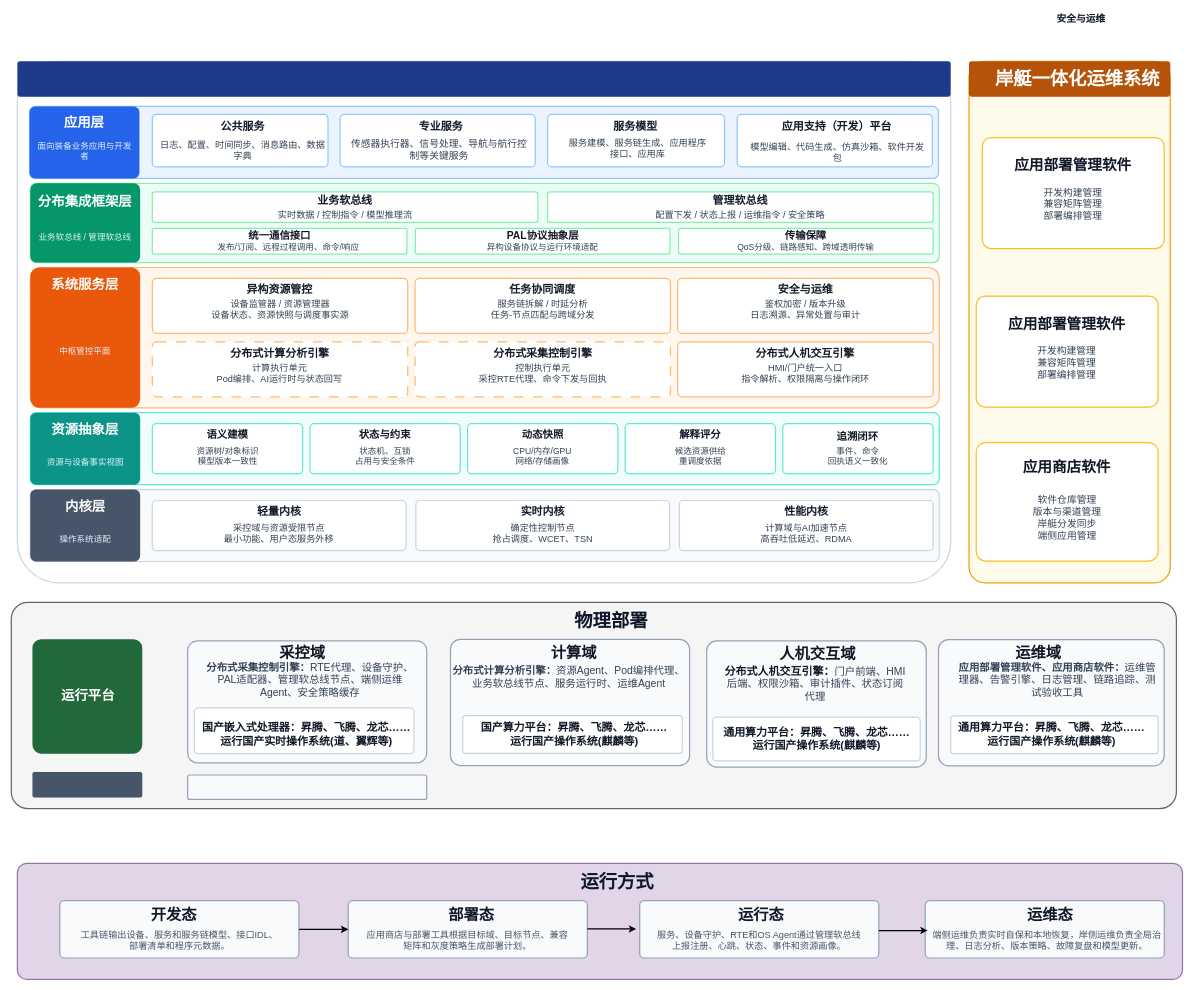
The diagram is 1193 pixels wide and 990 high, and some of its shapes have lost their labels. The shapes that lost their labels are listed below. From the top down, each one's centre as x and y in pixels, then its label:
At (x=483, y=78): "艇上本地系统：五层分布式操作系统底座".
At (x=87, y=784): "执行机构".
At (x=307, y=787): "设备平台：声呐、雷达、可见光……".
